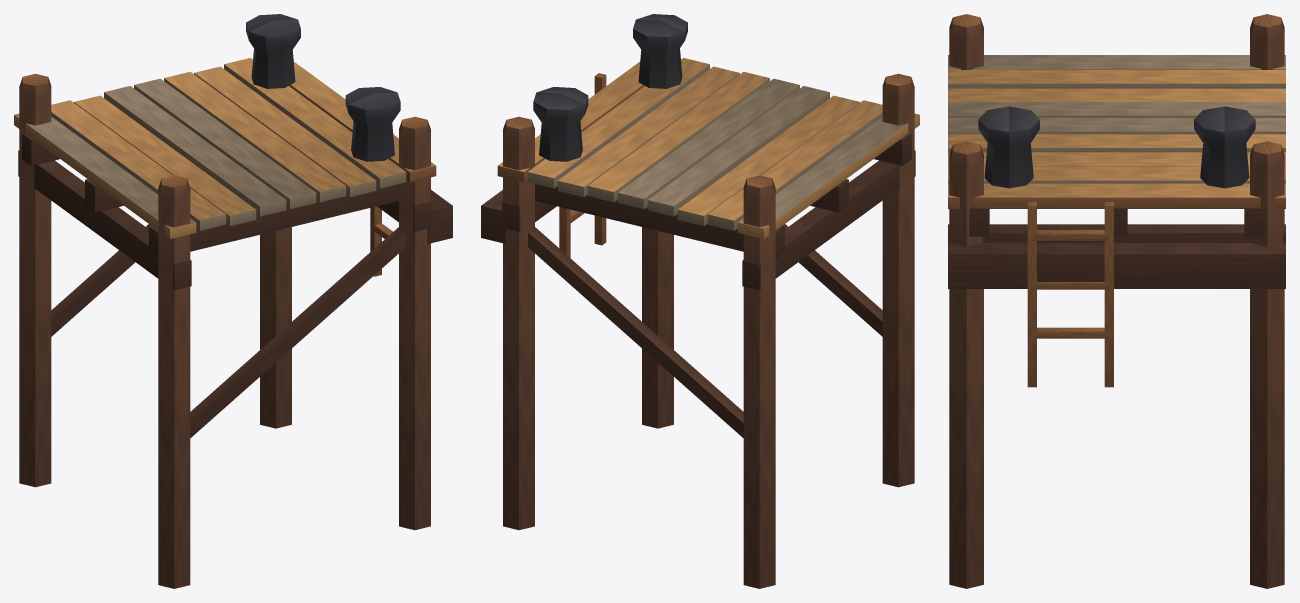
The model's file is dock_end_01.glb.
The picture shows the model from 3 angles, left to right: view 1: azimuth 30°, elevation 25°; view 2: azimuth 150°, elevation 25°; view 3: azimuth 270°, elevation 25°; orthographic projection. The views are drawn at different scales.
Visible parts, largest first — view 1: dock_end_01; view 2: dock_end_01; view 3: dock_end_01.
Part boxes in pixels (x1,y1,x2,y2): dock_end_01: (14,14,452,588); dock_end_01: (481,14,919,588); dock_end_01: (948,14,1285,588).
Size of the model in its own units: 2.33 by 3.26 by 2.19.
Materials: 1 (1 with a texture image).
